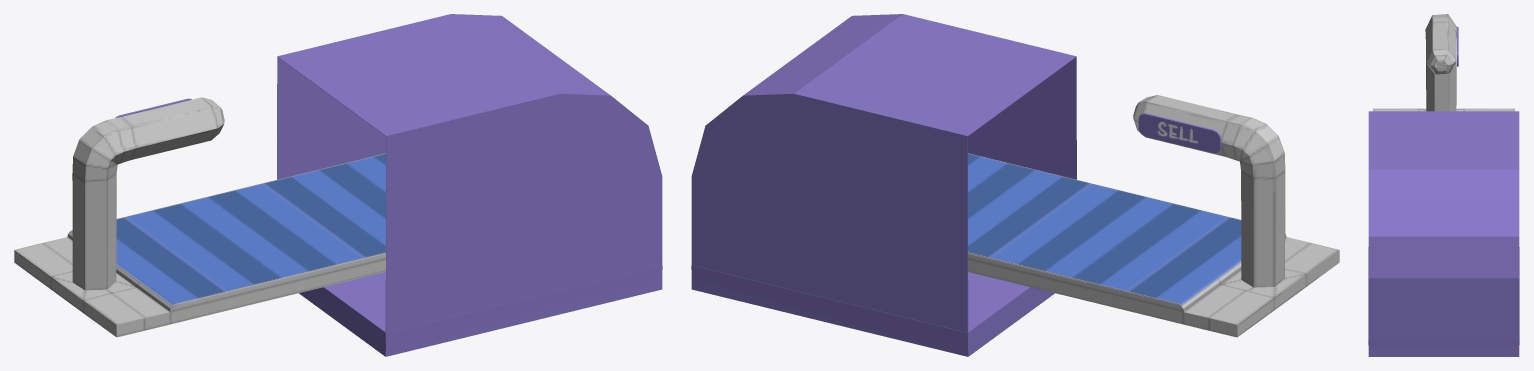
The model's file is cake_sell (1).fbx.
3 renders of one model, left to right at view 1: azimuth 30°, elevation 25°; view 2: azimuth 150°, elevation 25°; view 3: azimuth 270°, elevation 25°, orthographic. The views are drawn at different scales.
Visible parts, largest first — view 1: Cube.033, Cube.034; view 2: Cube.033, Cube.034; view 3: Cube.033.
Boxes of the visible parts, left/top/right/bottom form: Cube.033: left=14, top=14, right=662, bottom=356; Cube.034: left=70, top=153, right=385, bottom=305; Cube.033: left=691, top=14, right=1339, bottom=356; Cube.034: left=968, top=153, right=1241, bottom=305; Cube.033: left=1368, top=14, right=1519, bottom=356.
Bounding box in the file's own units: 10.68 × 4.68 × 3.73.
1 material, 1 textured.
